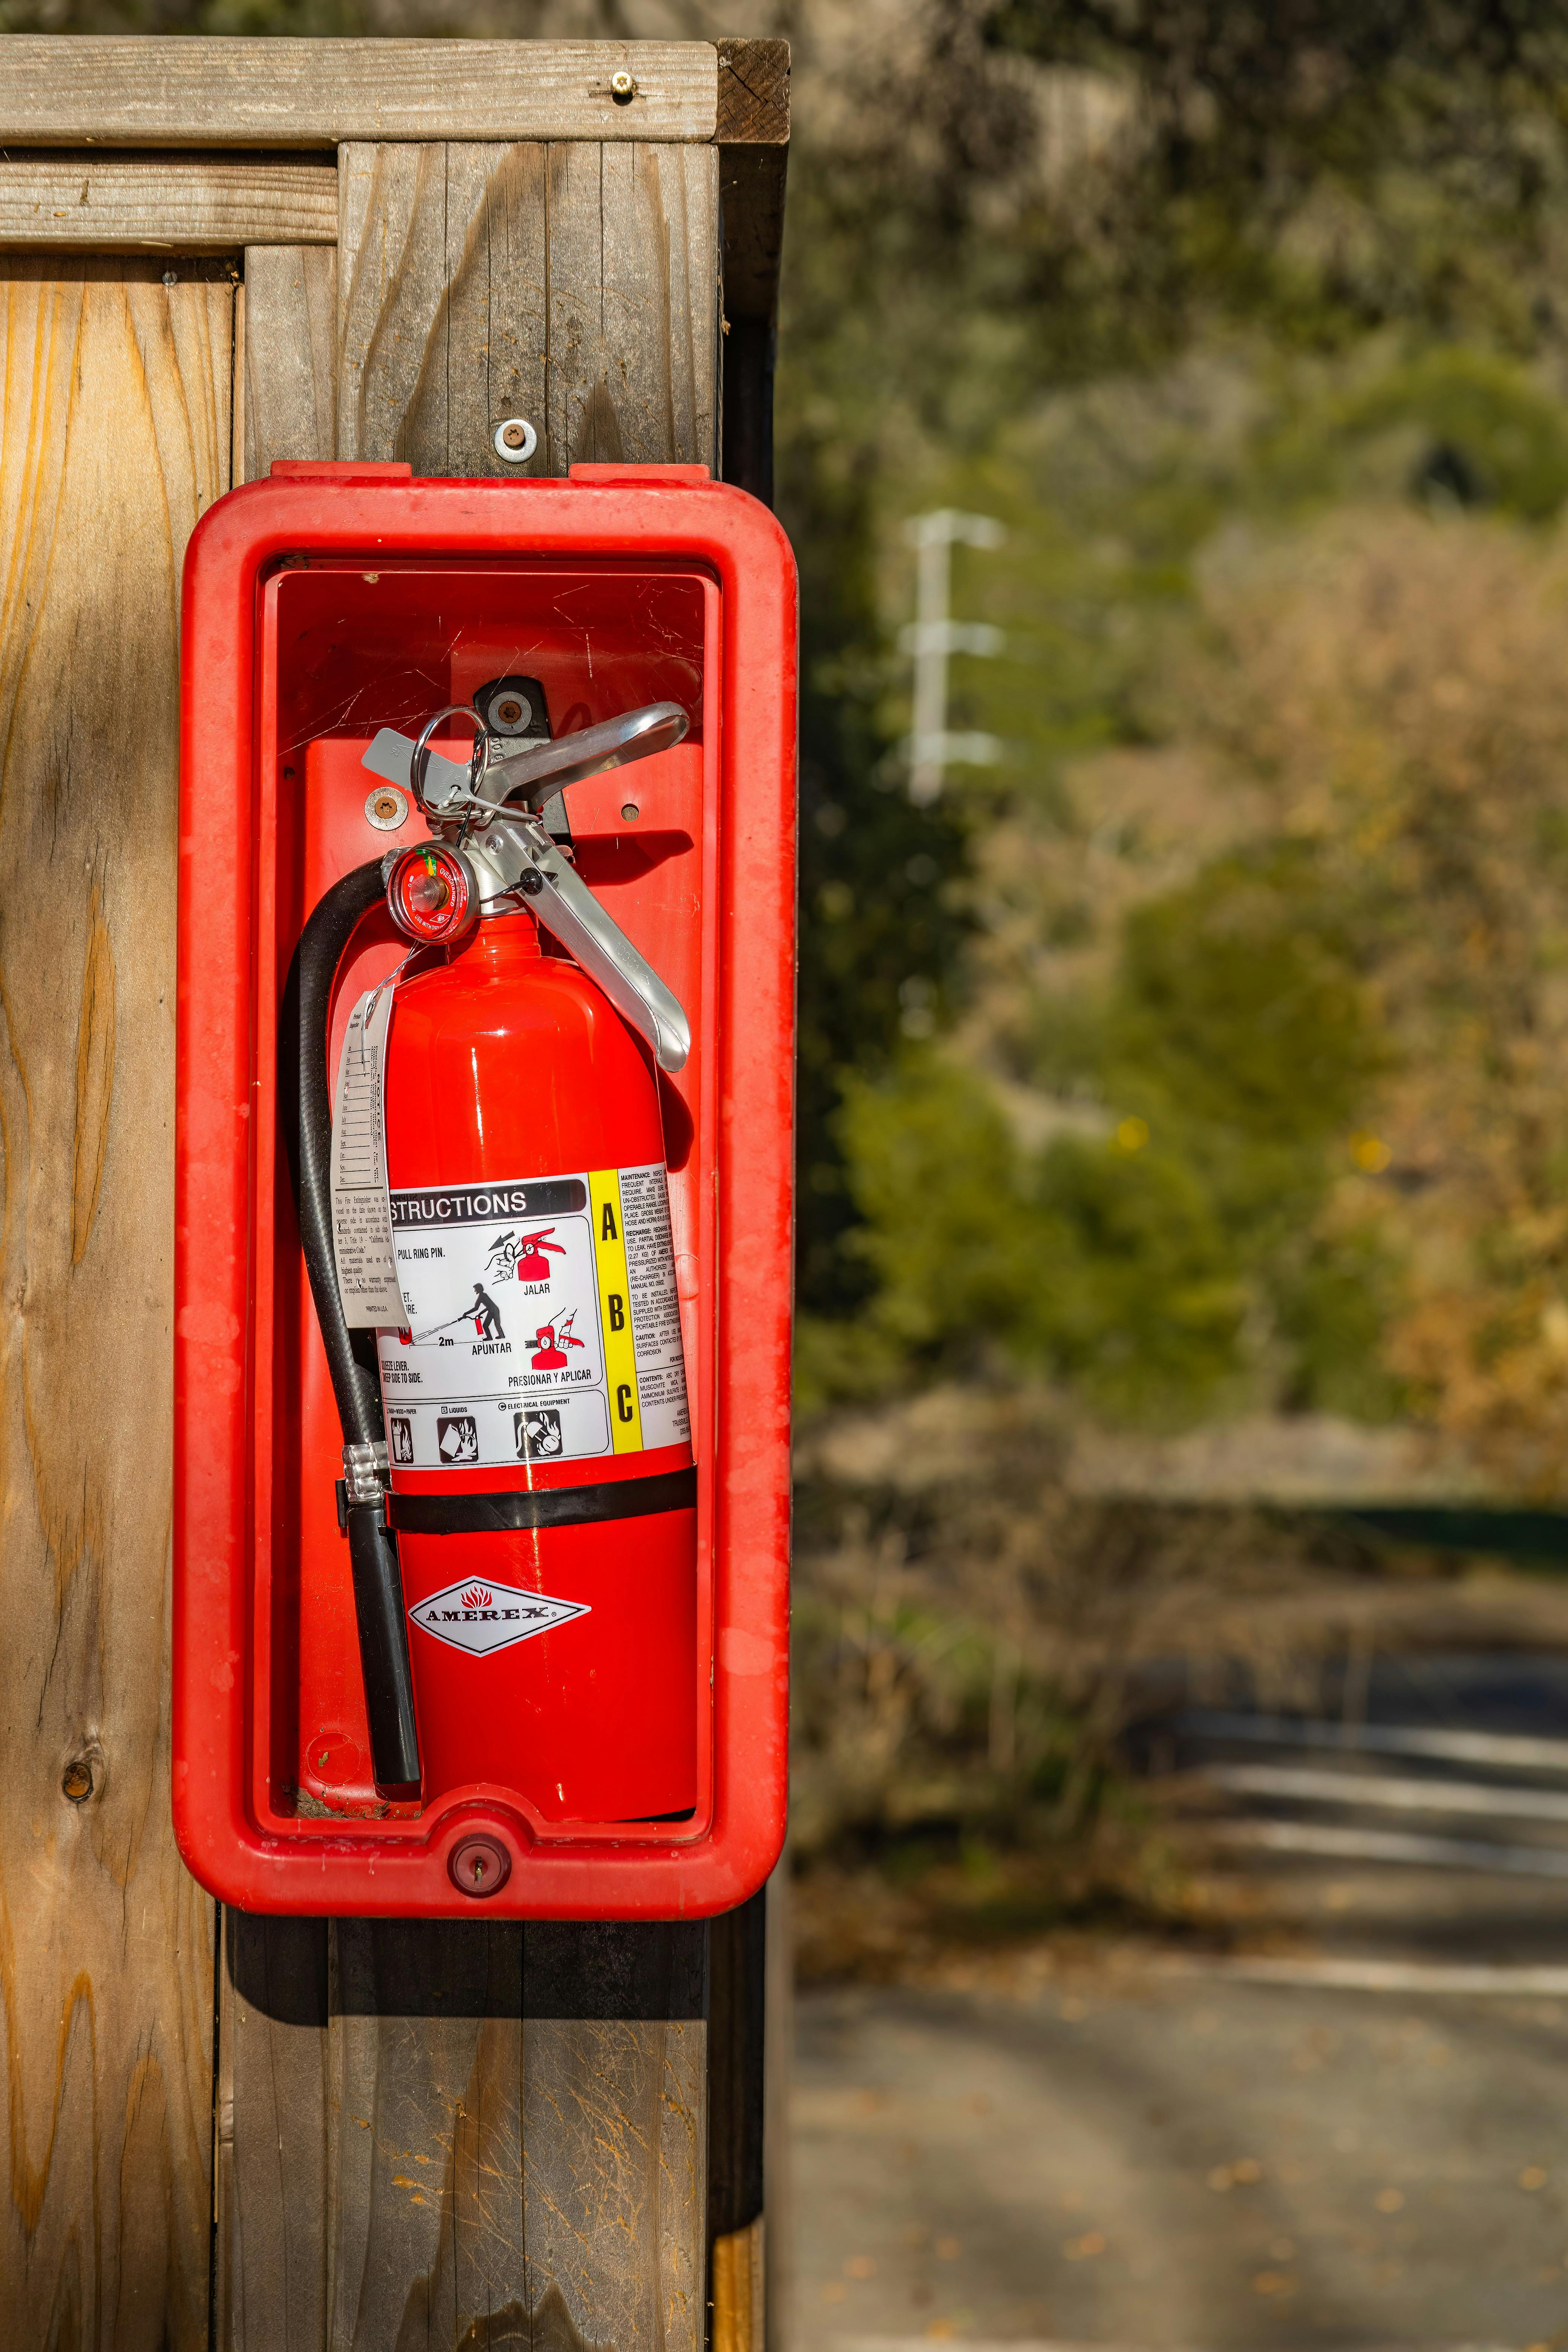extintor: (261, 676, 721, 1843), (278, 662, 725, 1834)
